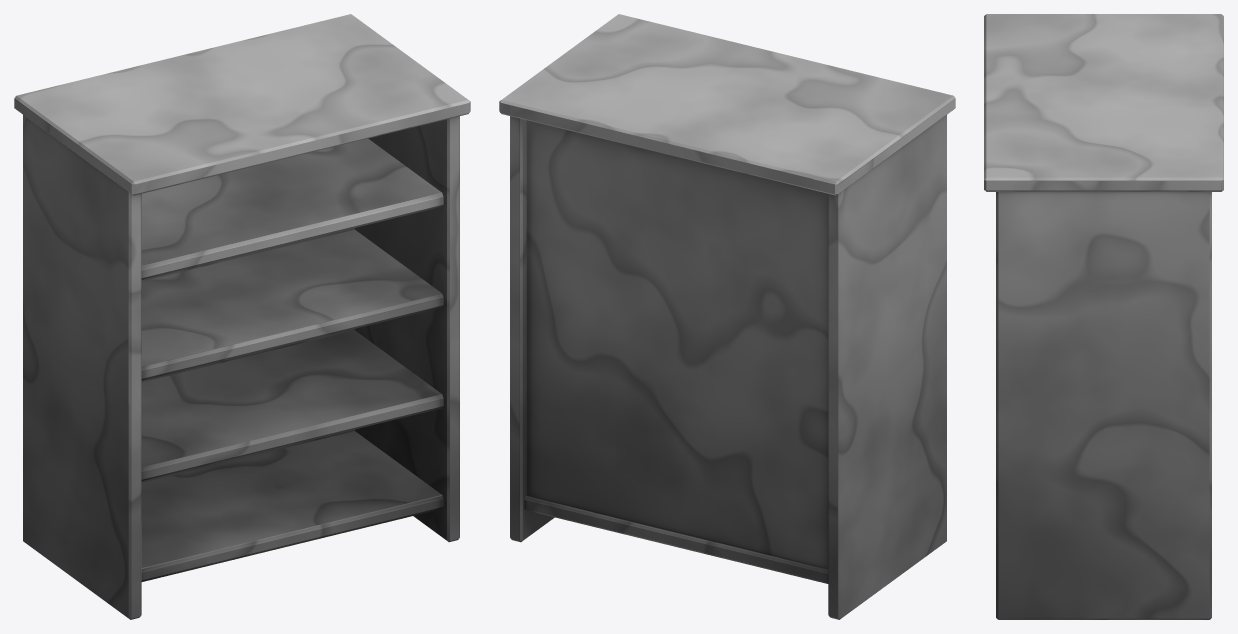
Rendered from shelf(textured).fbx.
3 renders of one model, left to right at view 1: azimuth 30°, elevation 25°; view 2: azimuth 150°, elevation 25°; view 3: azimuth 270°, elevation 25°, orthographic.
Visible parts, largest first — view 1: Cube.001; view 2: Cube.001; view 3: Cube.001.
Part boxes in pixels (x1,y1,x2,y2): Cube.001: (14, 14, 470, 619); Cube.001: (499, 14, 955, 619); Cube.001: (984, 14, 1223, 619).
Bounding box in the file's own units: 361 × 452 × 221.
1 material, 1 textured.
